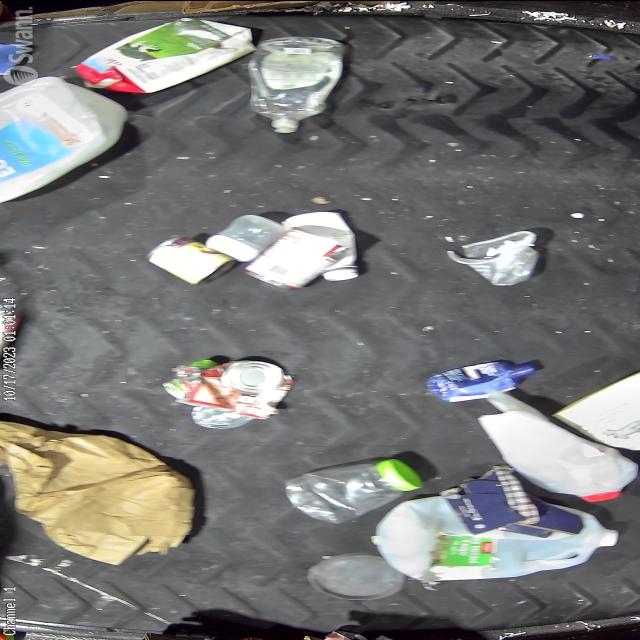can: (196, 358, 290, 406), (146, 235, 234, 282)
milk_jug: (374, 494, 618, 579), (0, 73, 124, 208), (478, 409, 638, 501)
non_white_jug: (76, 17, 254, 92)
plastic_bottle: (248, 36, 346, 132)
